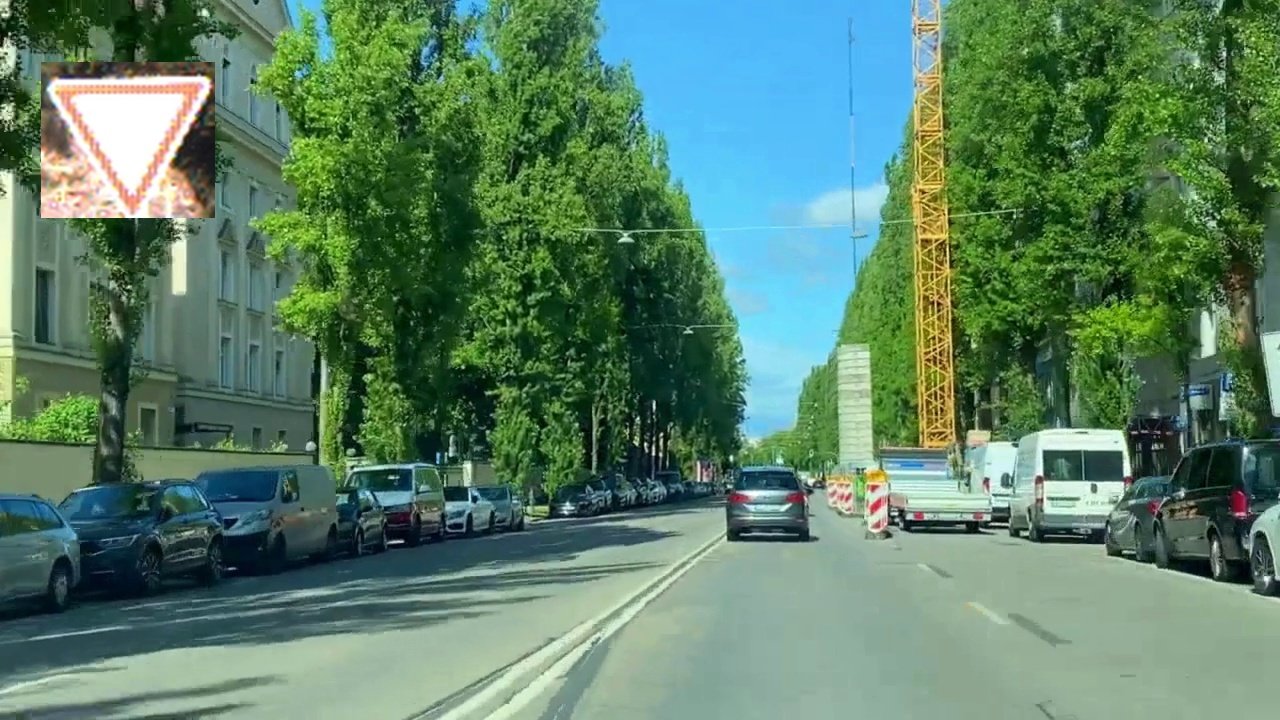Yield: (41, 62, 215, 218)
